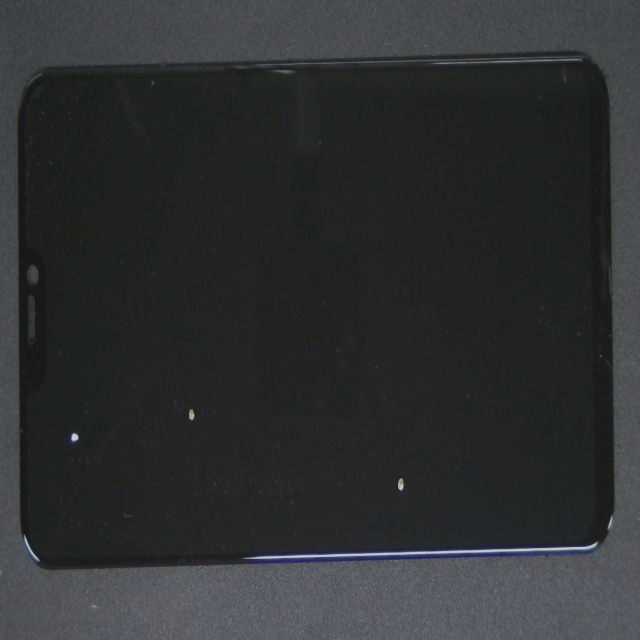stain: (211, 194, 593, 640), (83, 164, 271, 610), (50, 176, 119, 595)
